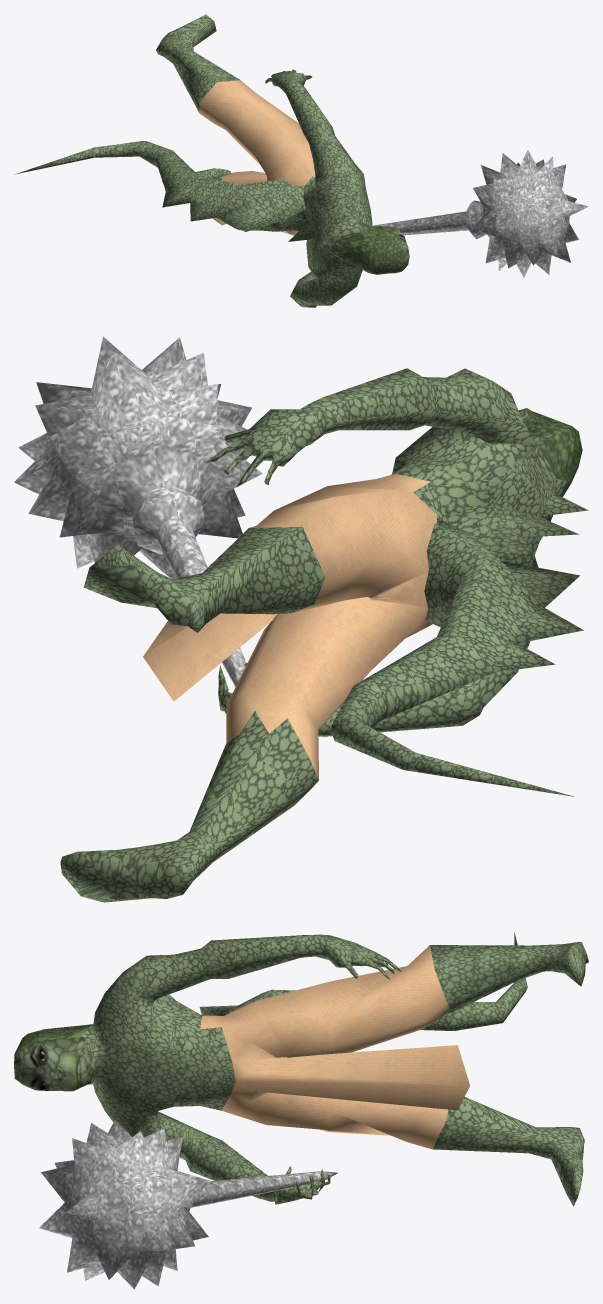
Rendered from makardhwaja_000234.obj.
3 views of the same model, one above another, from view 1: azimuth 30°, elevation 25°; view 2: azimuth 150°, elevation 25°; view 3: azimuth 270°, elevation 25° (orthographic). The views are drawn at different scales.
Parts seen in each view (by area): view 1: hanuman_Cube.000, mace_Cube.008; view 2: hanuman_Cube.000, mace_Cube.008; view 3: hanuman_Cube.000, mace_Cube.008.
Part boxes in pixels (<box>): hanuman_Cube.000: <box>15,14,409,307</box>; mace_Cube.008: <box>373,150,588,277</box>; hanuman_Cube.000: <box>60,368,588,902</box>; mace_Cube.008: <box>14,336,262,686</box>; hanuman_Cube.000: <box>14,932,588,1206</box>; mace_Cube.008: <box>39,1119,337,1289</box>.
Size of the model in its own units: 3.56 by 1.51 by 3.1.
